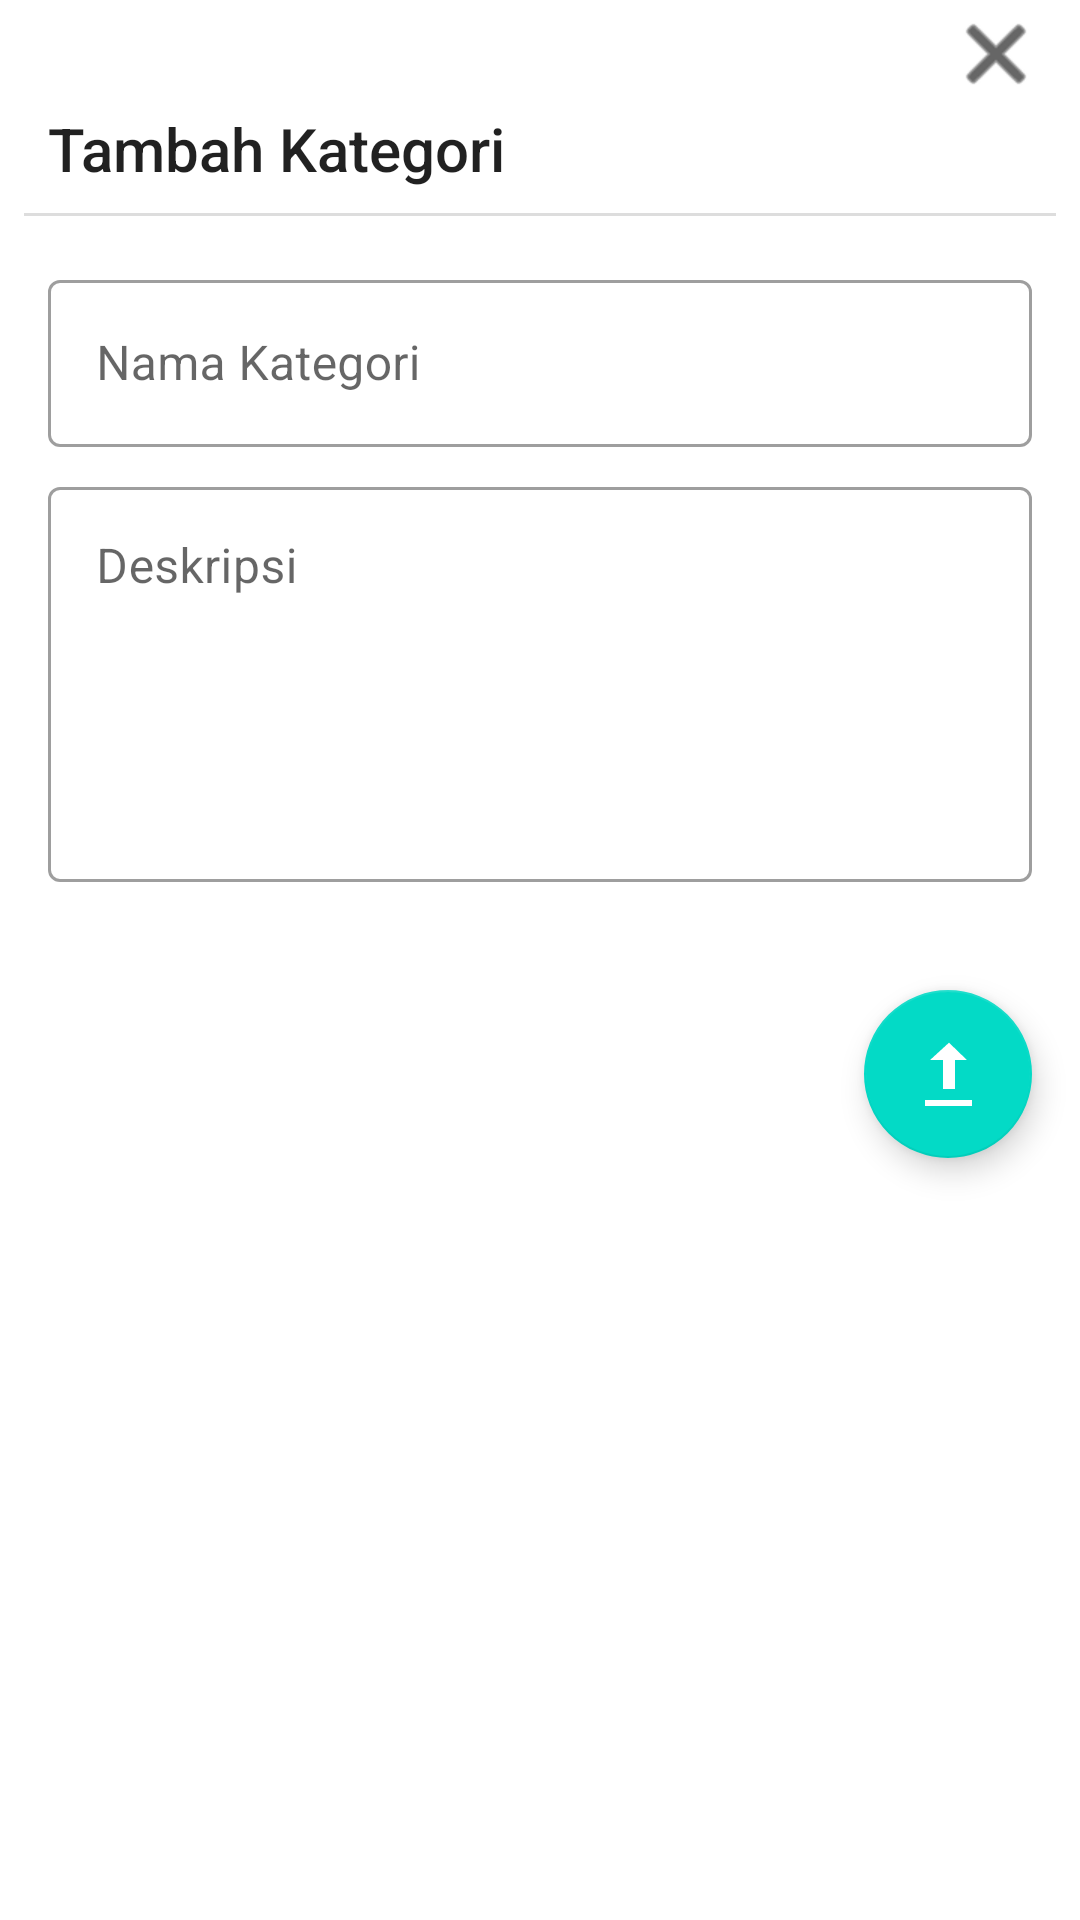

Icons on this 1080w x 1920h Android screen, each with its box as rect(x1, y1, x2, y2):
close clear cancel: rect(966, 24, 1026, 84)
upload: rect(864, 990, 1032, 1158)
